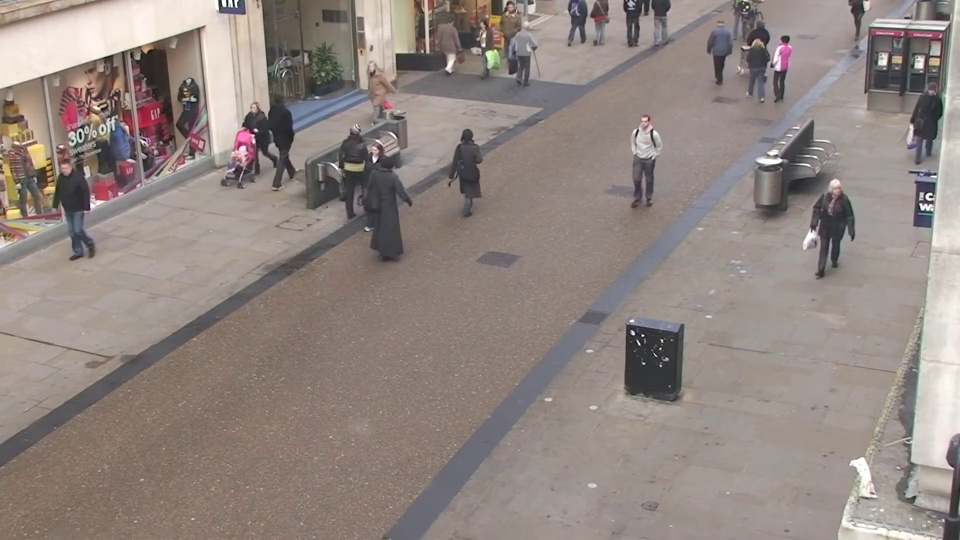pedestrian: (39, 162, 90, 267), (806, 177, 850, 289), (903, 80, 947, 172), (378, 148, 415, 252), (353, 138, 389, 240), (454, 121, 488, 219), (350, 117, 384, 213), (232, 99, 267, 188), (623, 116, 654, 212), (267, 86, 300, 172), (354, 58, 383, 137), (768, 29, 797, 103), (737, 33, 765, 107), (706, 15, 732, 85), (743, 15, 769, 84), (470, 19, 494, 88), (441, 11, 466, 77), (515, 18, 539, 86), (498, 0, 520, 63)
